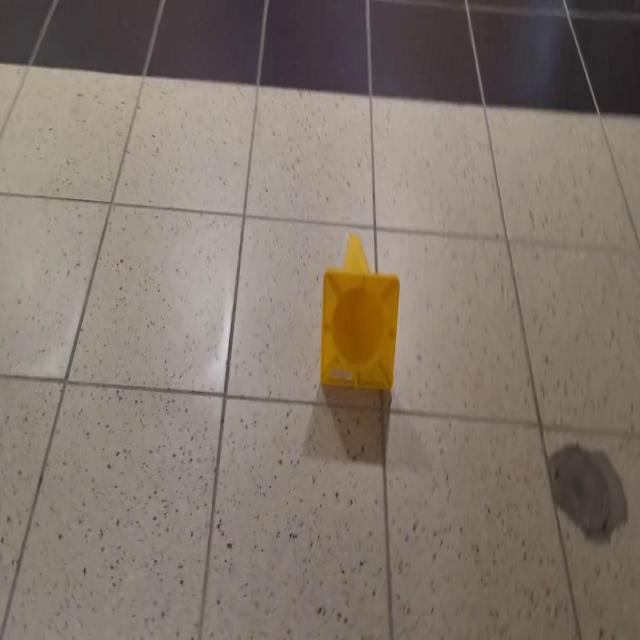frc_cone: (322, 235, 401, 396)
